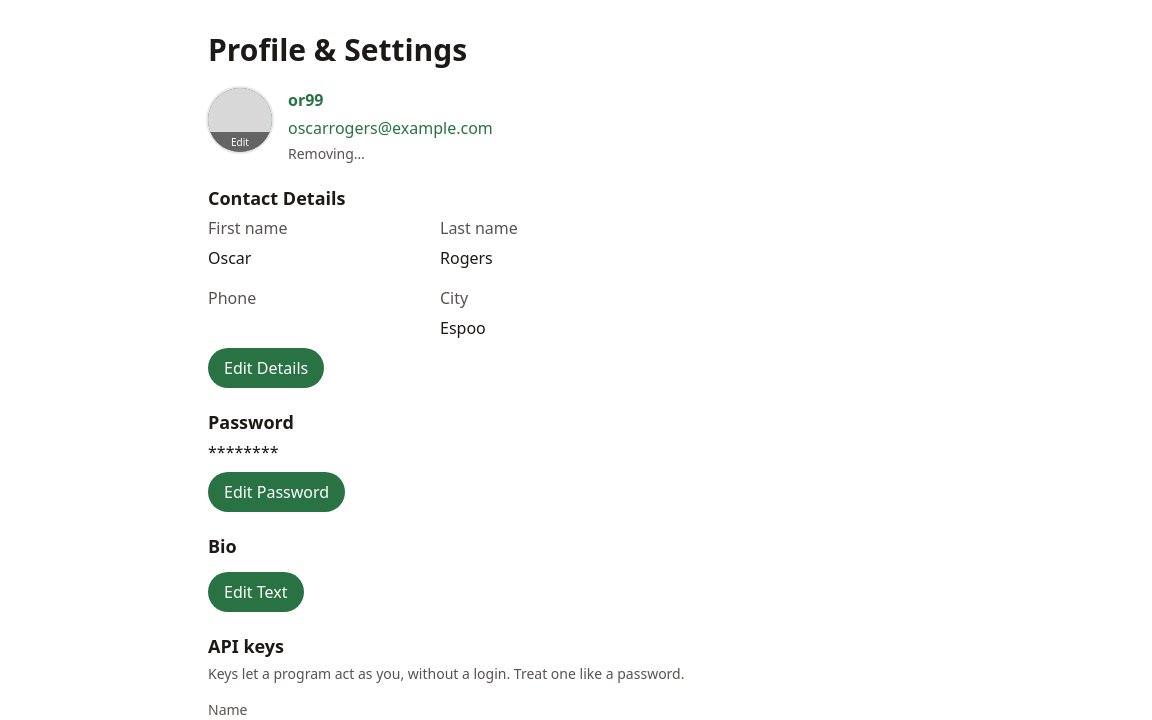
Scenario: closes the editor before the delete answers, so the page can show progress
Click the button with aria-label "Edit profile picture" at (240, 120), box [208, 88, 272, 152]
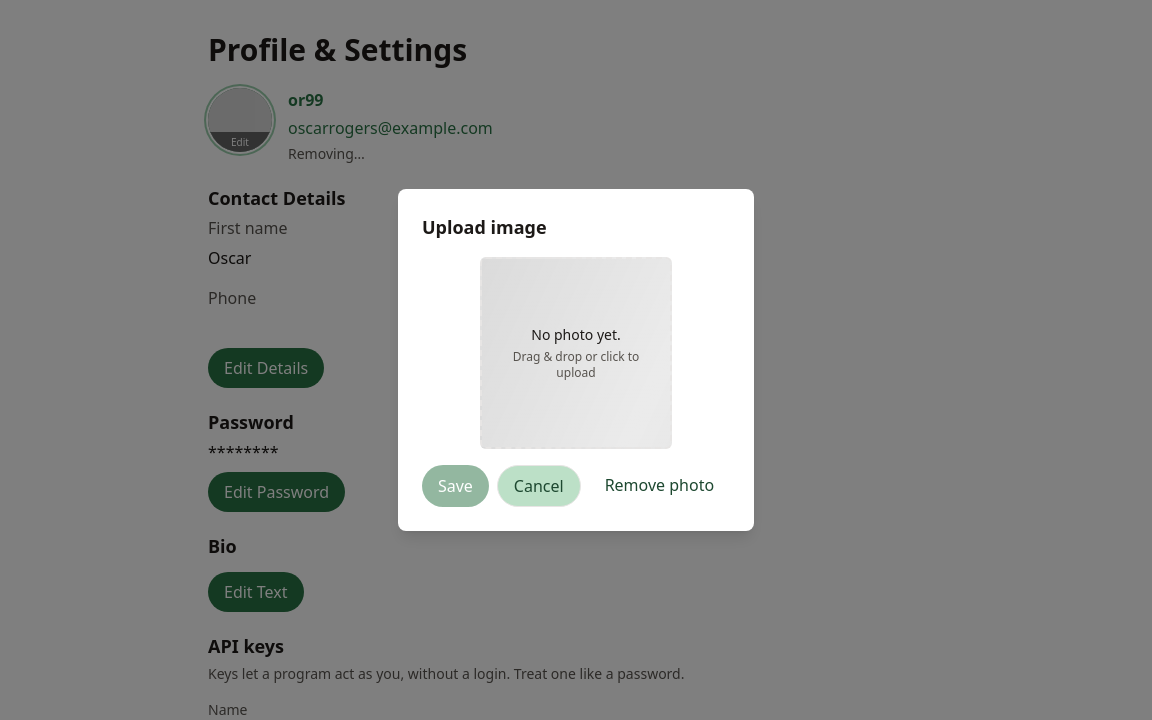
Click the button "Remove photo" at (659, 485), box [589, 465, 730, 505]
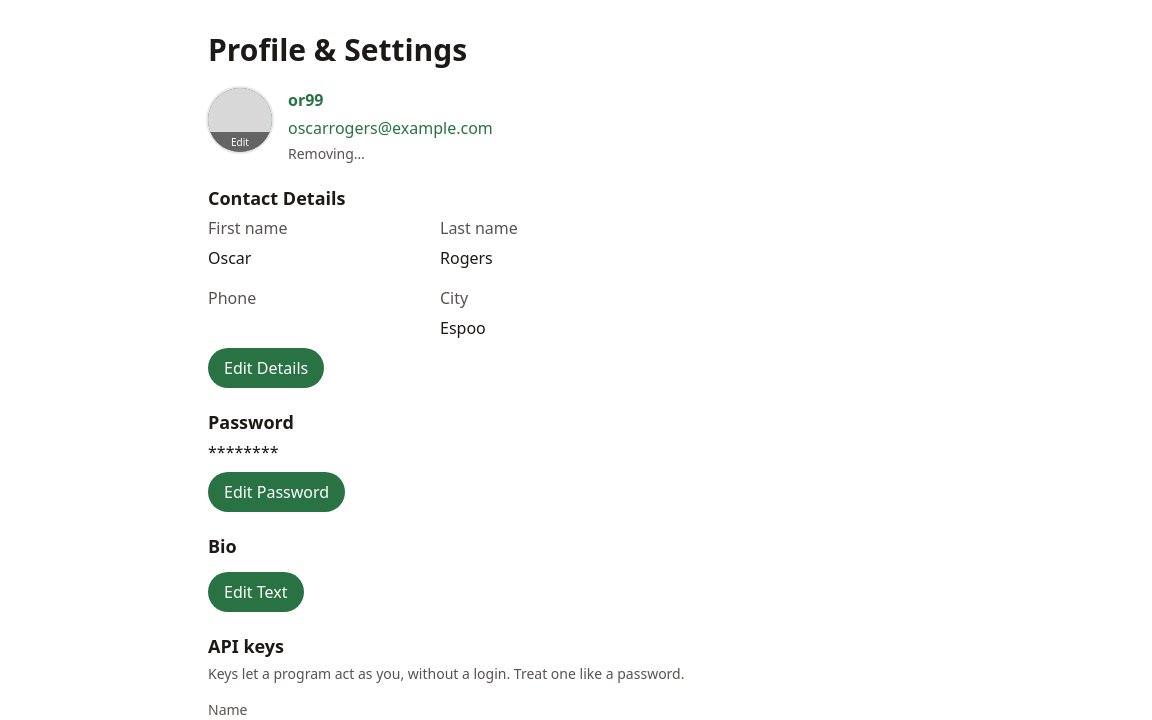
expect the text "Removing…" is shown: met, box [288, 144, 365, 163]
expect the dialog is gone: met
